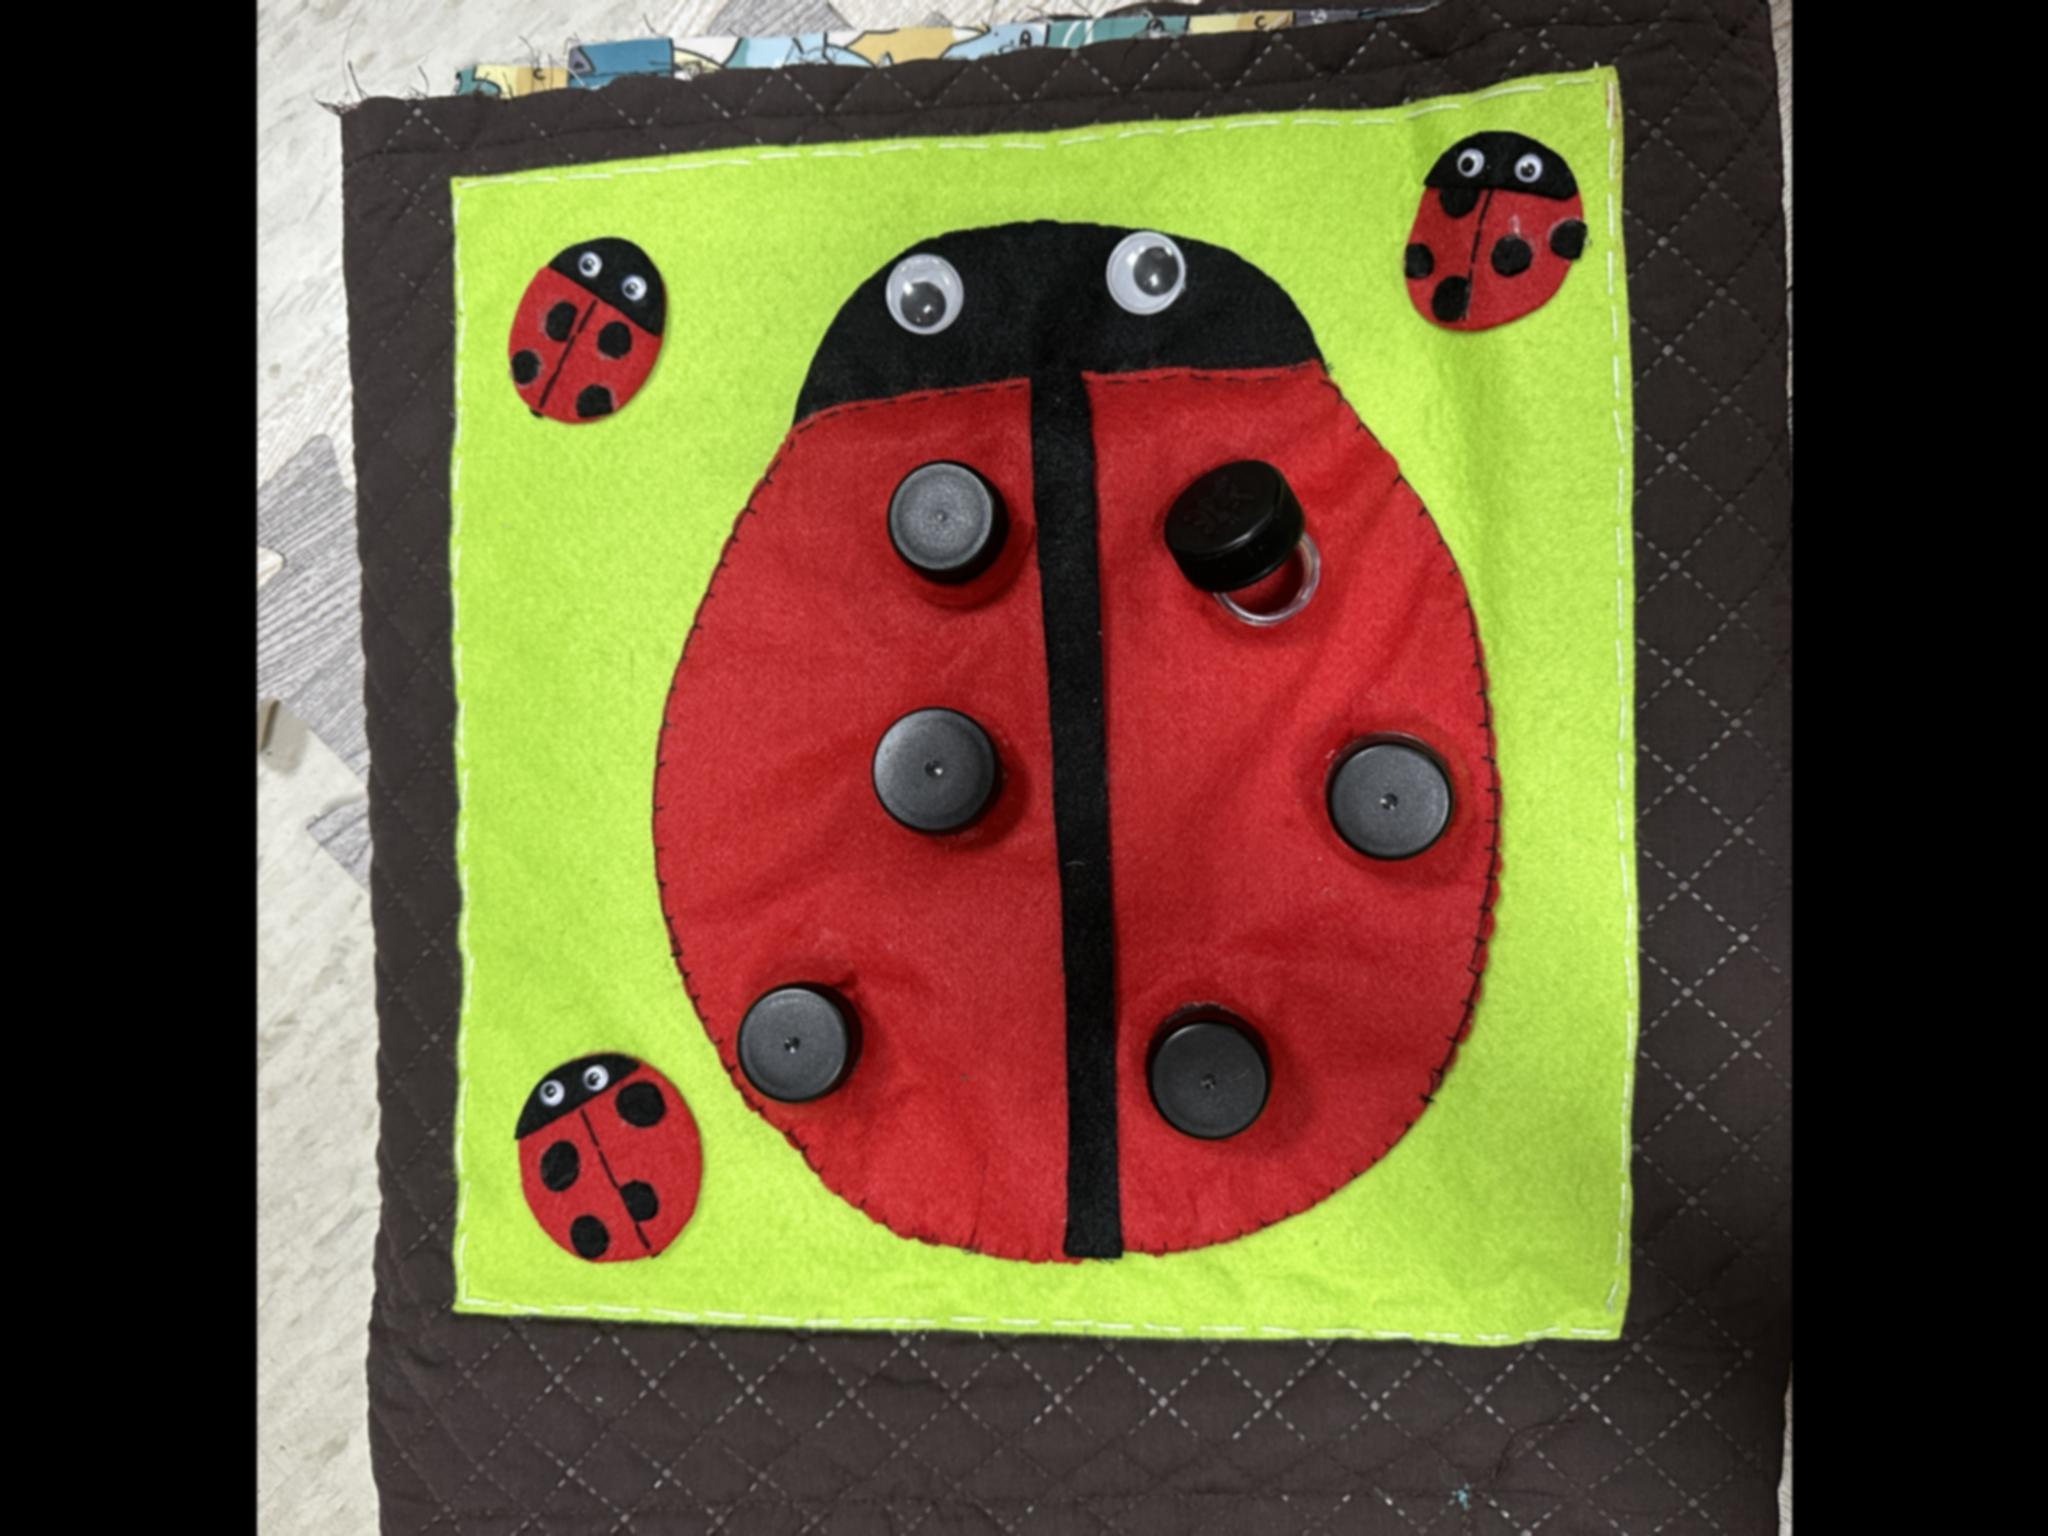cap_ng: (1138, 434, 1342, 662)
cap_ok: (839, 692, 1042, 878), (861, 447, 1039, 631), (1303, 716, 1467, 886), (1130, 999, 1284, 1163), (724, 955, 868, 1125)
